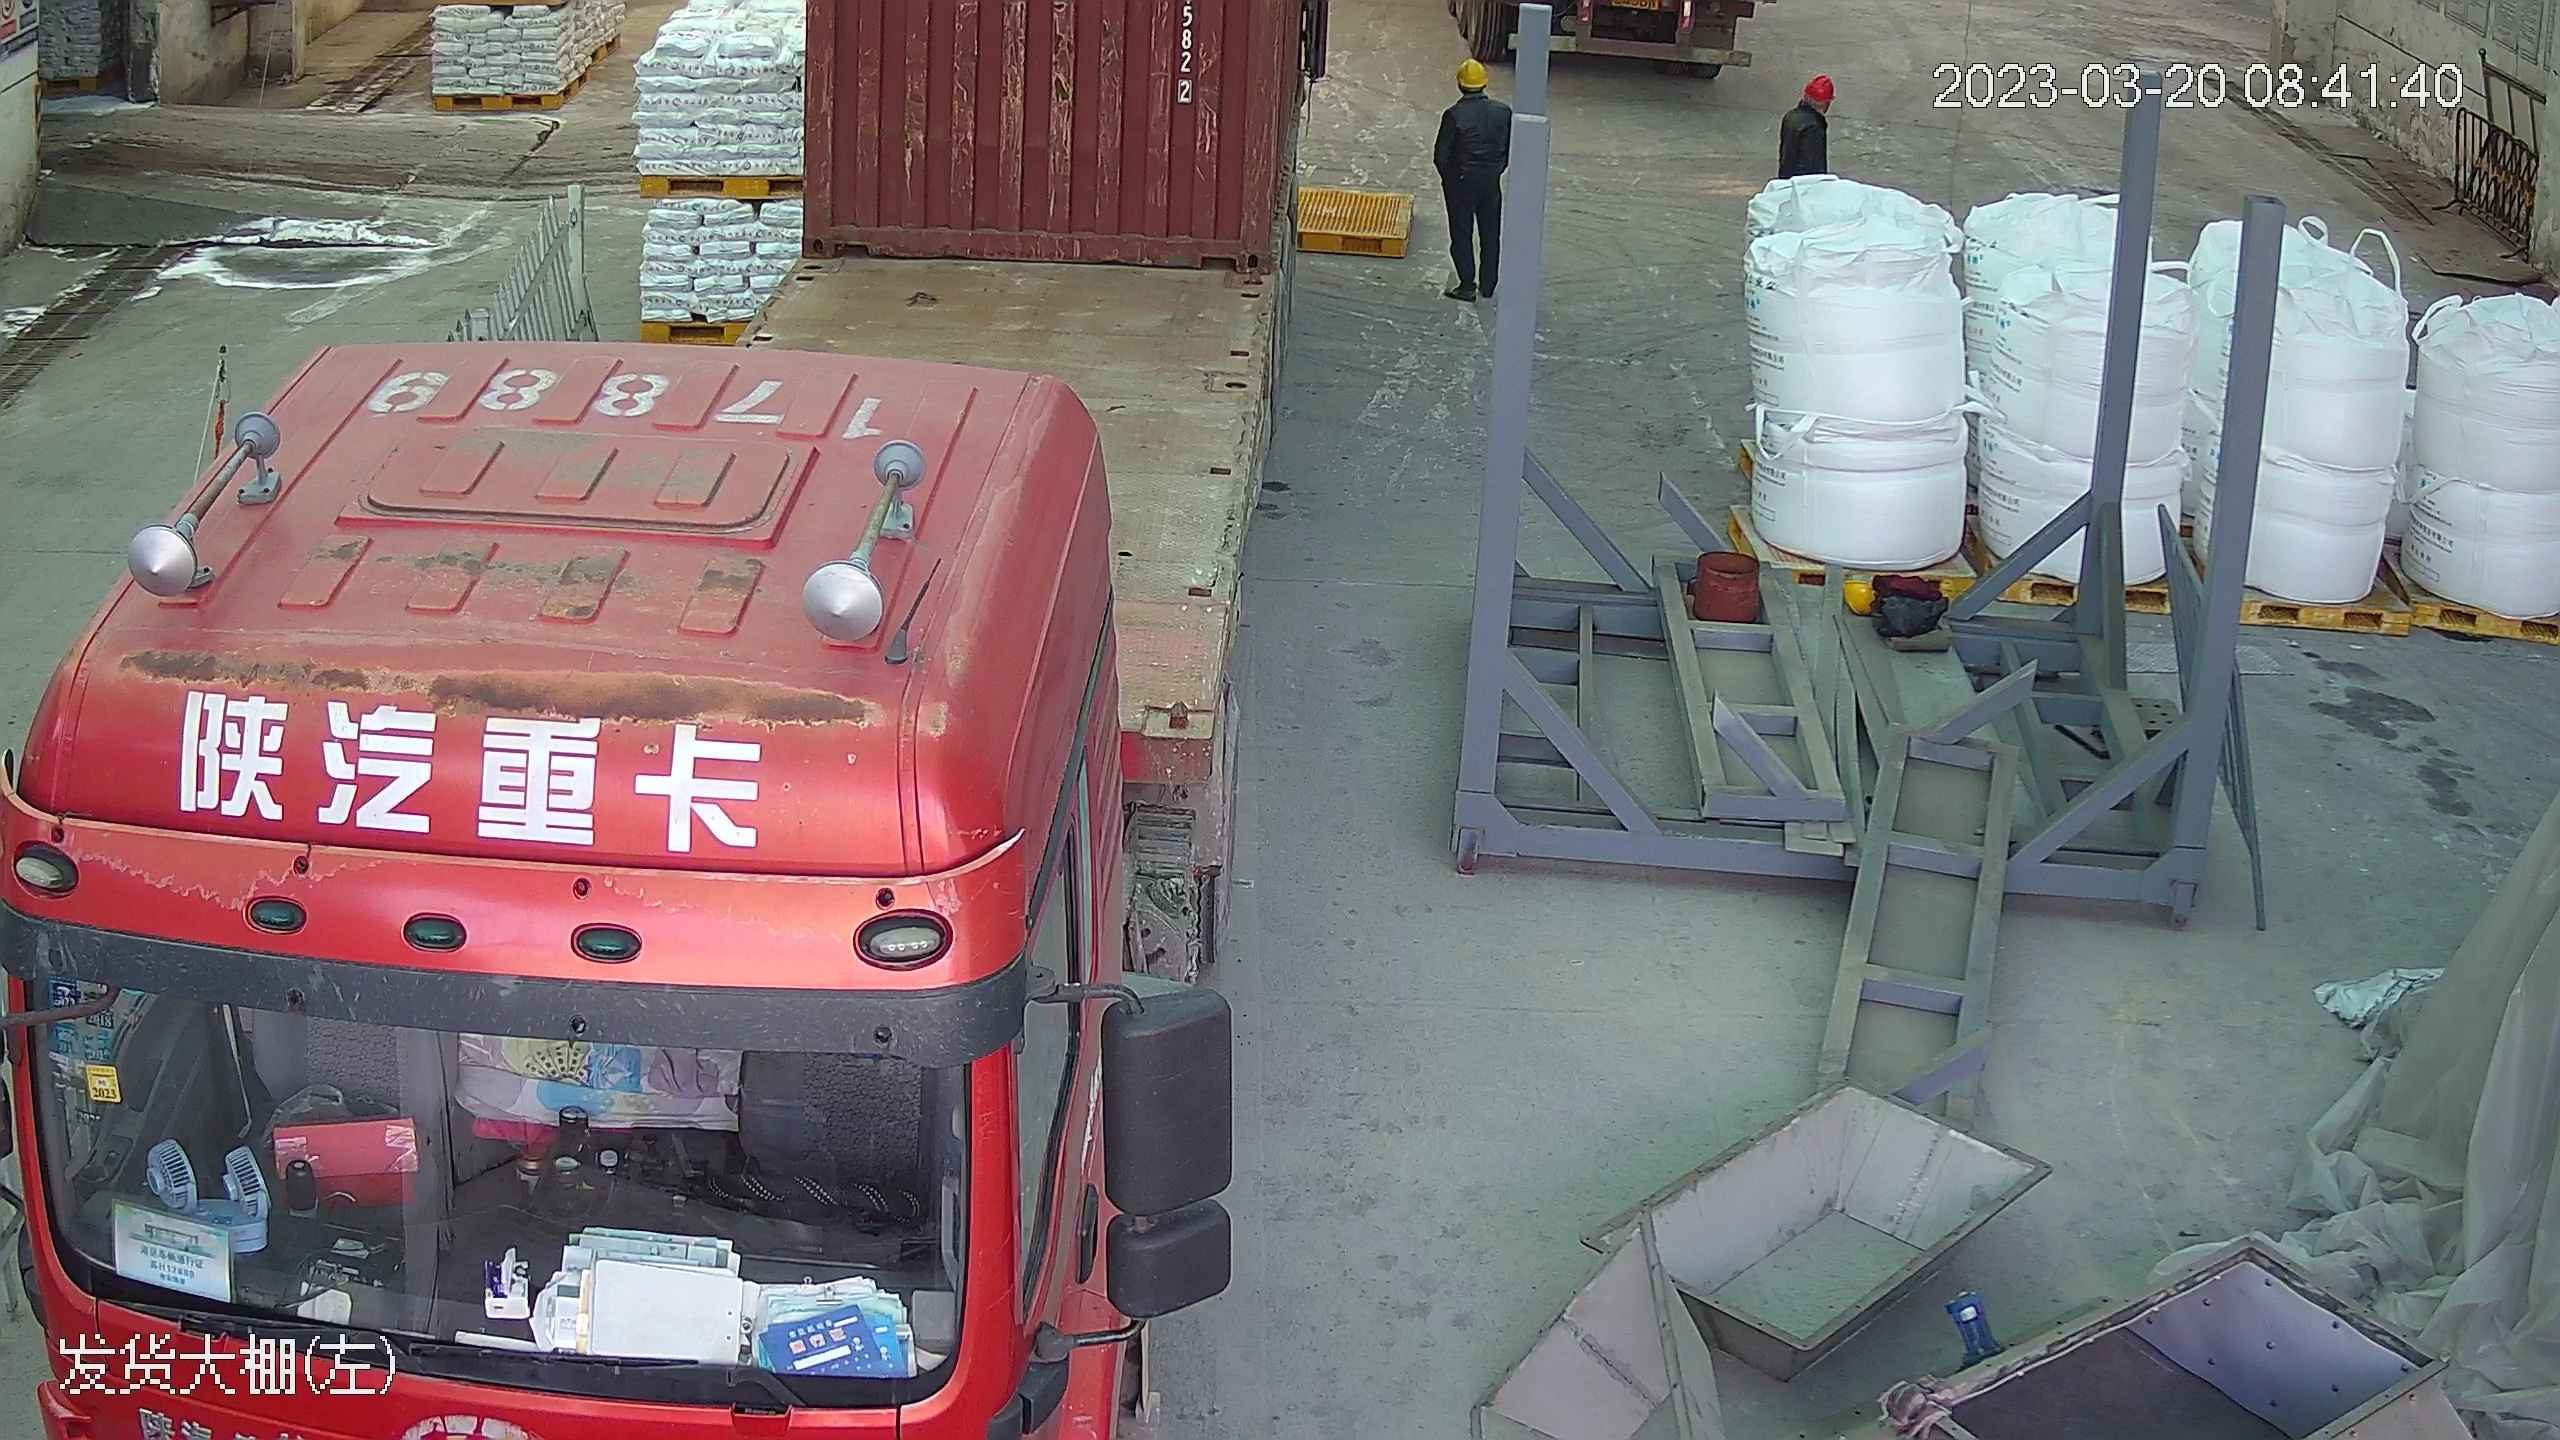head: (1439, 58, 1508, 132), (1777, 69, 1837, 146)
helmet: (1799, 70, 1836, 99), (1455, 58, 1490, 87)
people: (1432, 55, 1512, 302)
truck: (3, 1, 1290, 1440)
